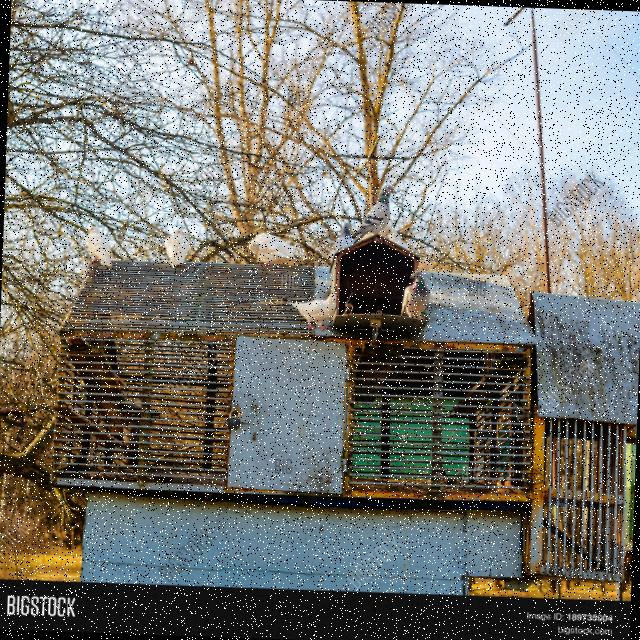bird: (328, 232, 427, 336), (329, 308, 429, 342), (351, 184, 395, 244), (280, 290, 338, 330), (246, 231, 305, 267), (400, 270, 432, 320), (82, 224, 114, 268), (162, 229, 192, 269), (332, 222, 357, 252)
